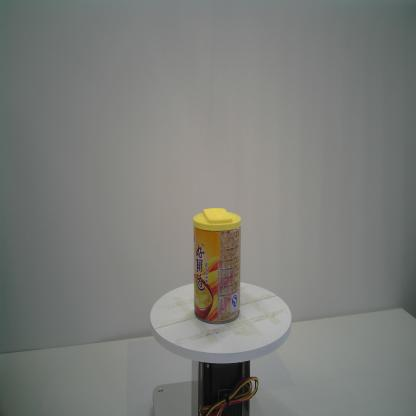Canned Food: (193, 207, 242, 324)
